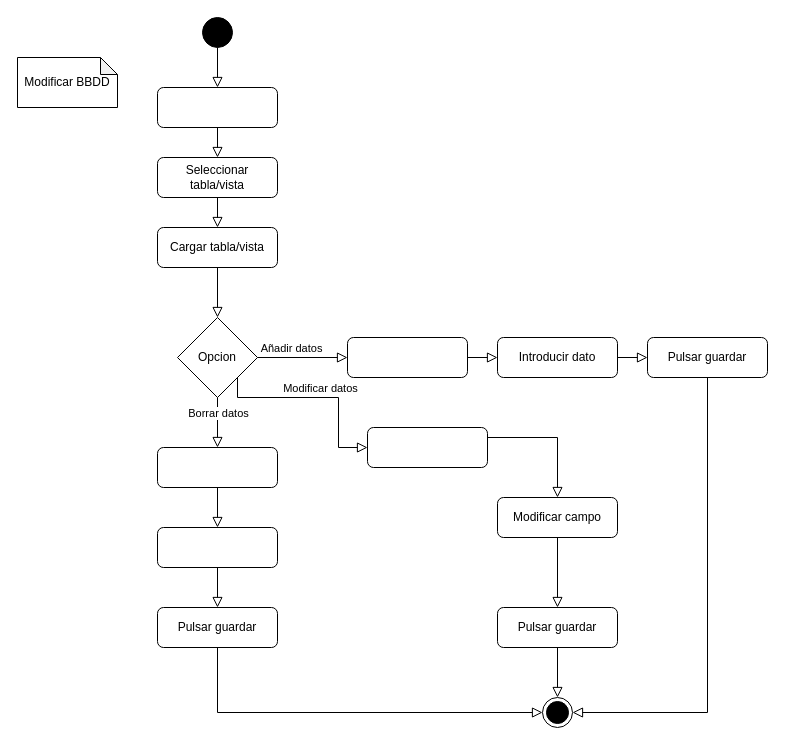
Image size: 785x745. Some labels were removed from this diagram. Each missing label, with the centre of its shape:
"Borrar fila" goes at [217,547].
"Desplegar menú" goes at [217,107].
"Pulsar Añadir dato" goes at [407,357].
"Seleccionar casilla" goes at [427,447].
"Seleccionar fila" goes at [217,467].
